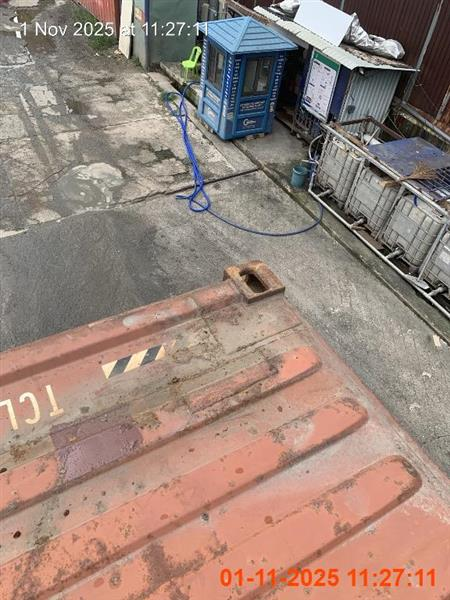broken: (0, 258, 449, 598)
